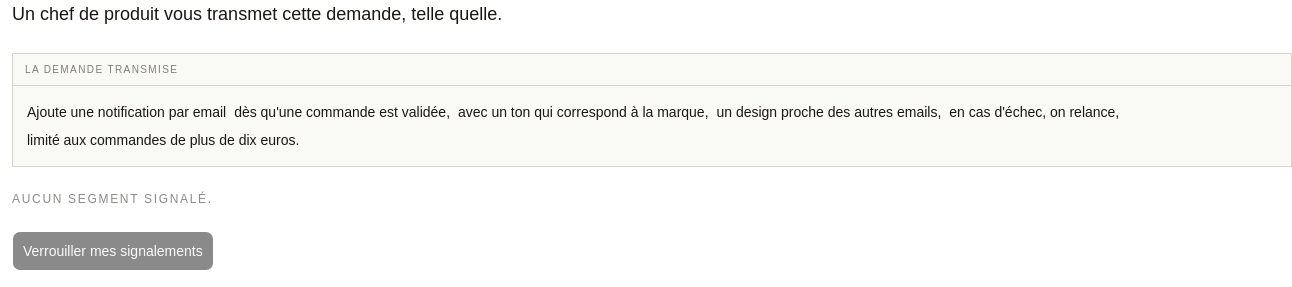
Test: ambiguity scan game, rendered › flags a segment on click, without revealing which segments are ambiguous
The width and height of the screenshot is (1292, 287).
Click the button "Ajoute une notification par email".
click(127, 112)  # box [25,98,228,126]
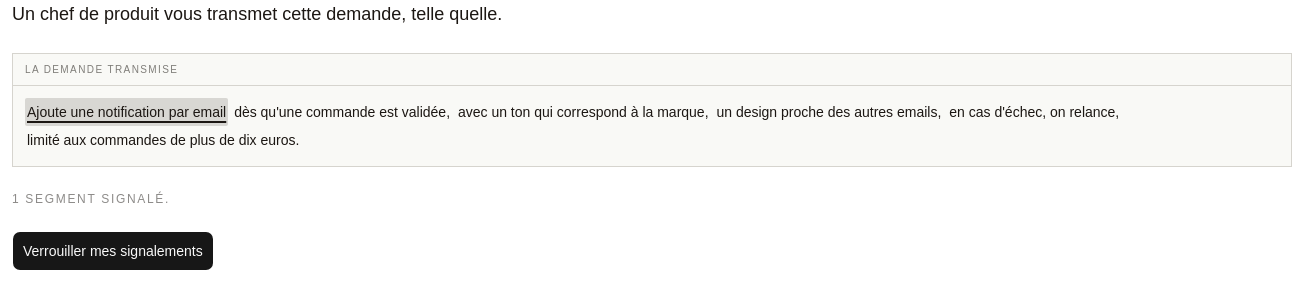
Now the text "1 segment signalé." is shown, box [12,192,170,206]
